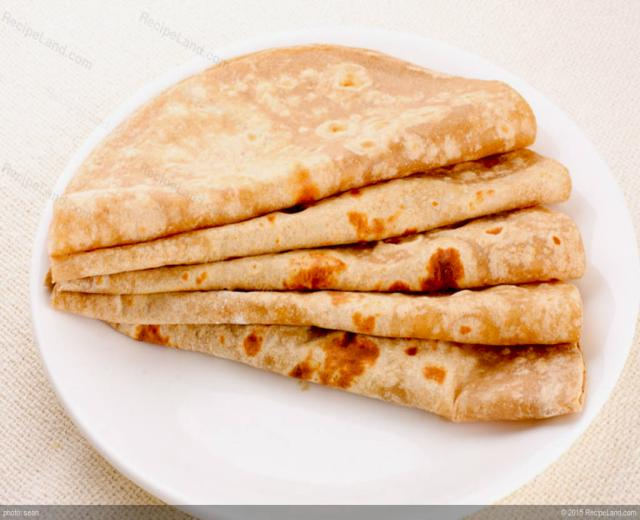chapati: (47, 45, 585, 420)
